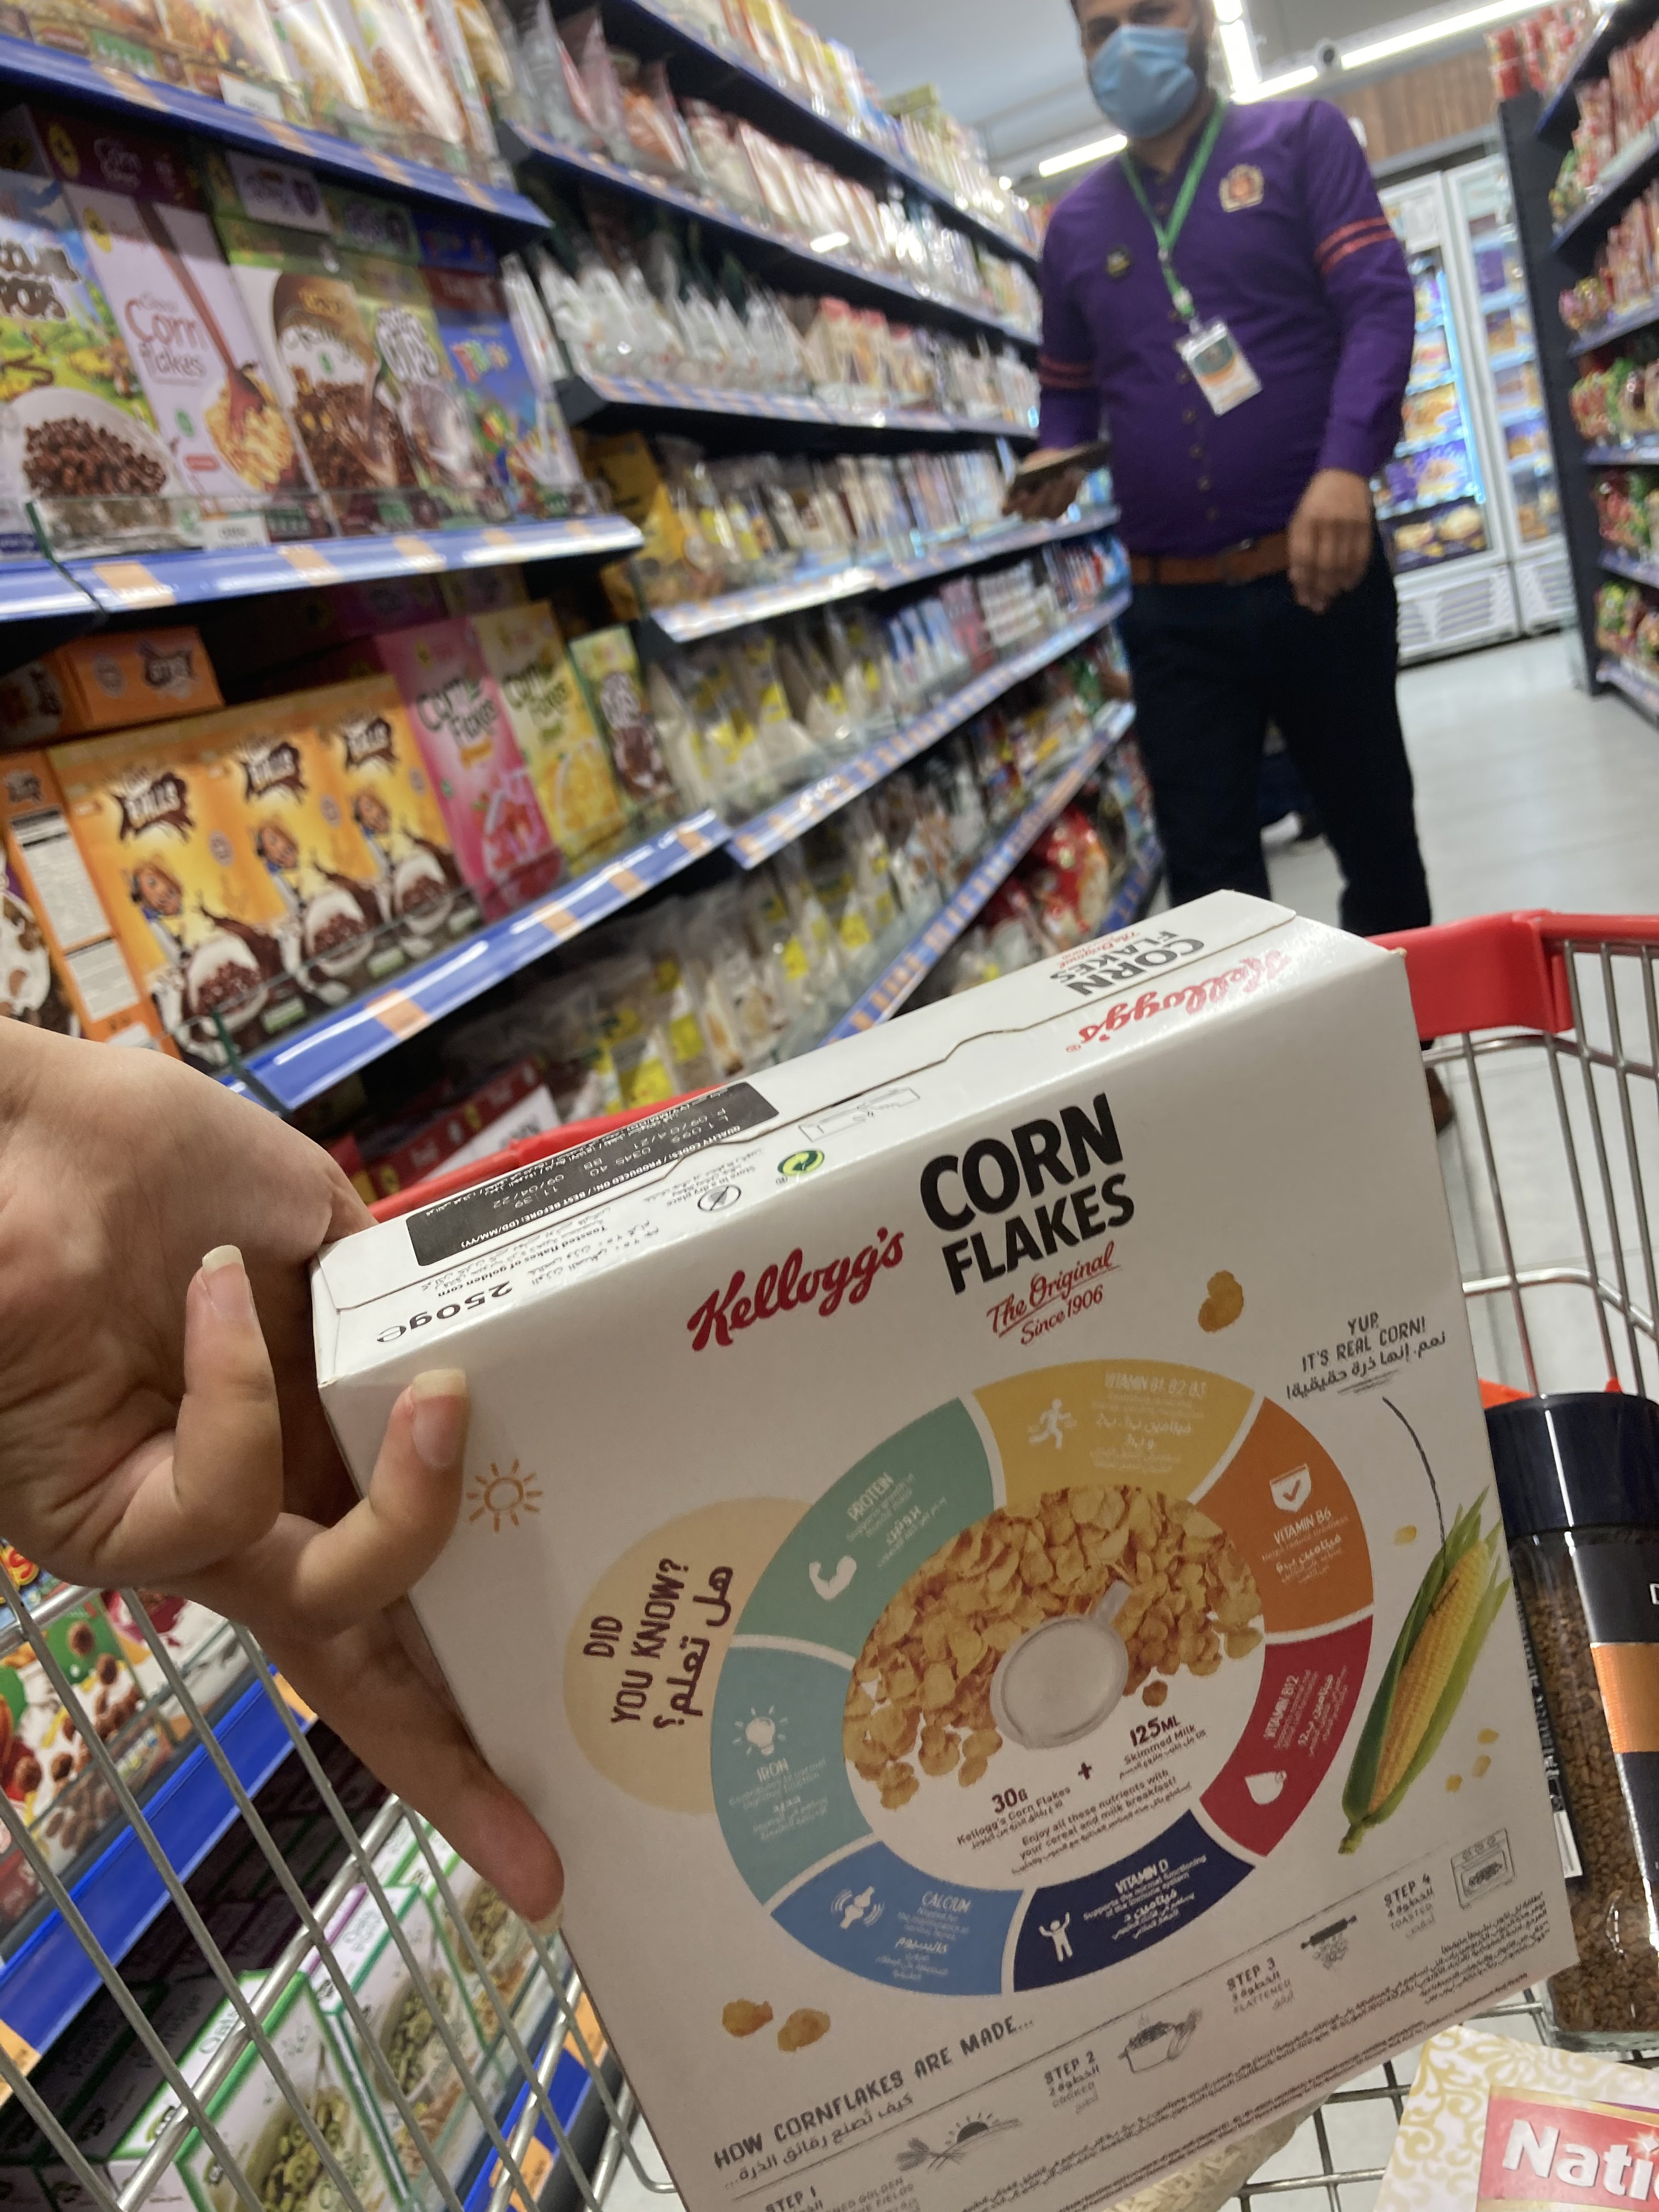Kellogg's Corn Flakes: (289, 883, 1636, 2212)
